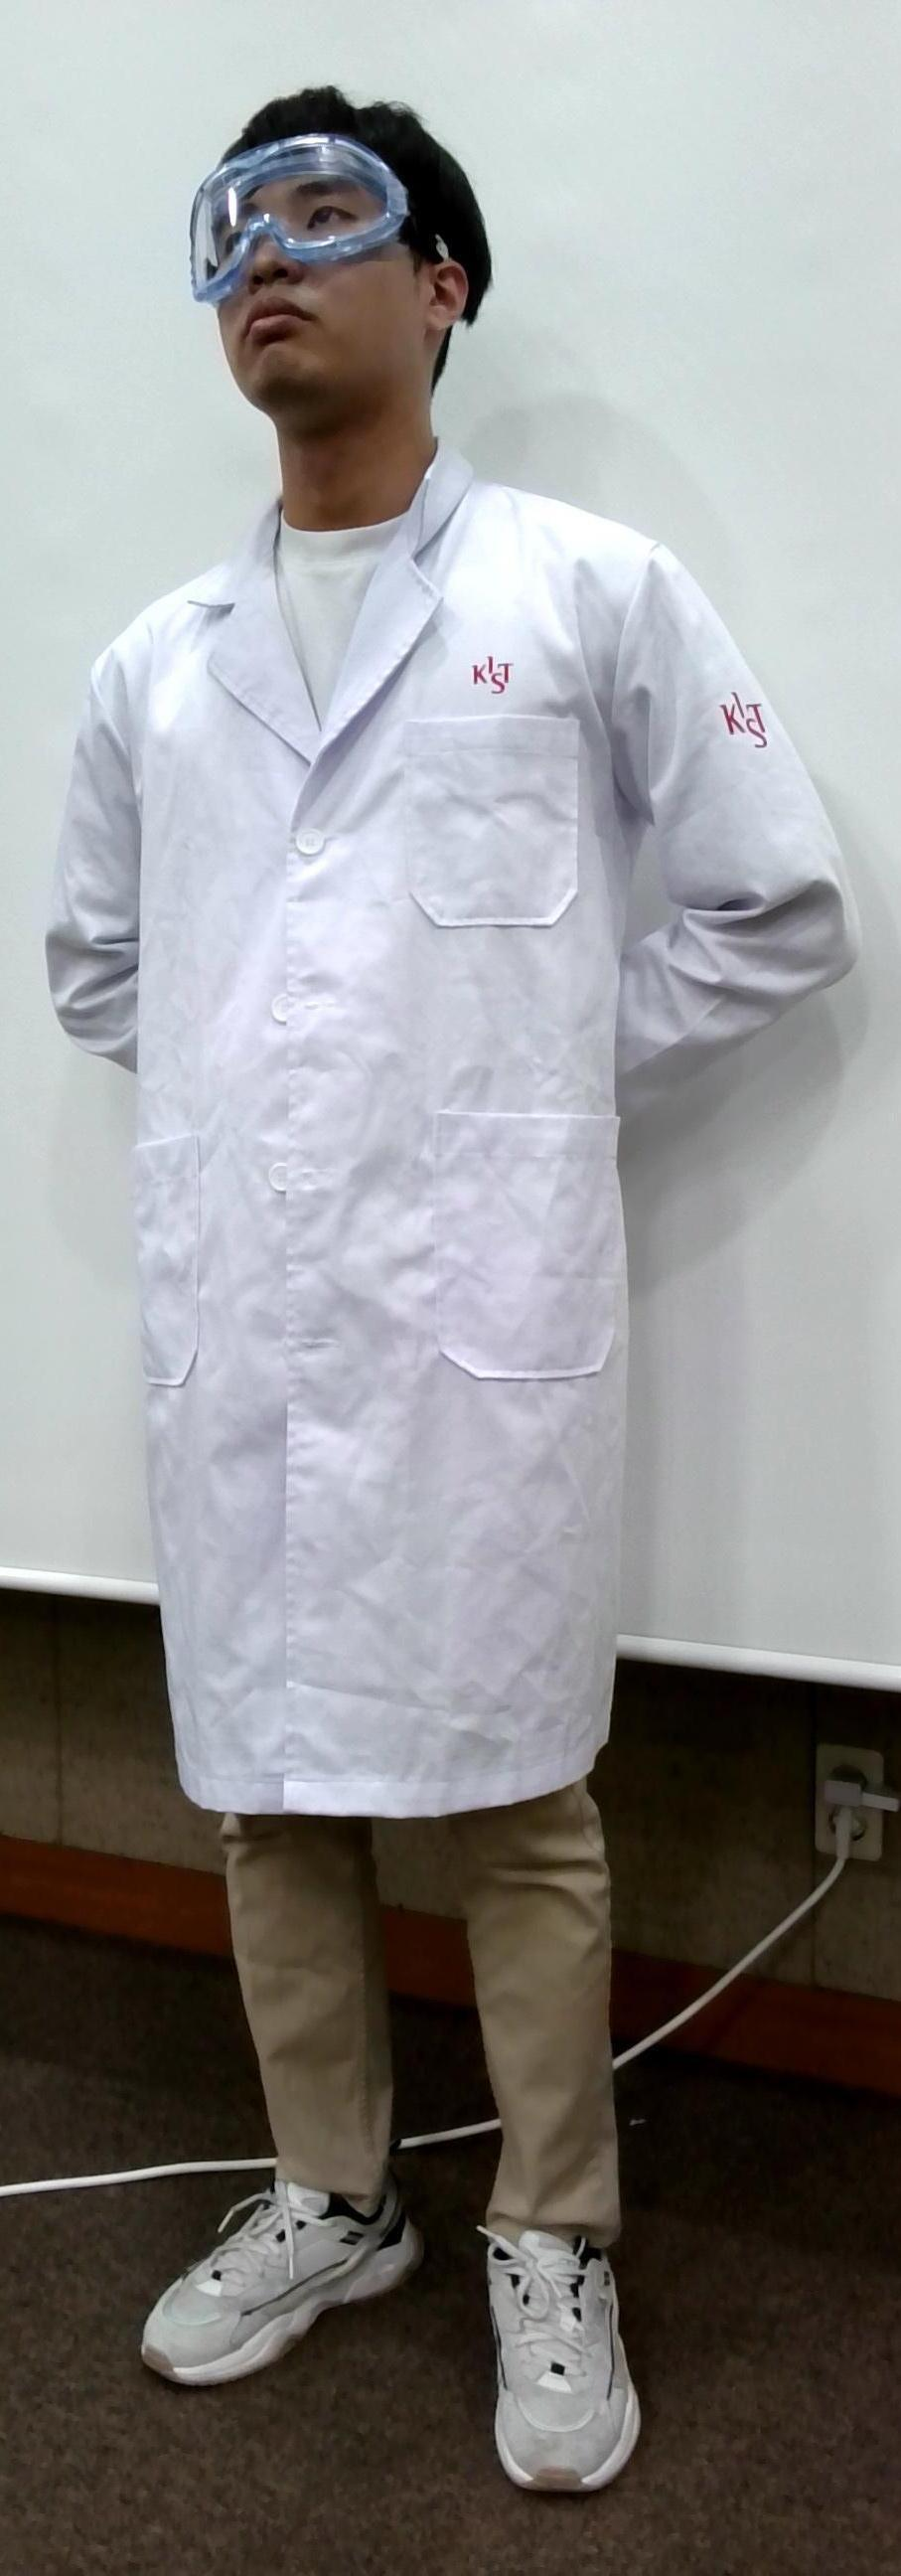lab_coat: (80, 603, 668, 1804)
